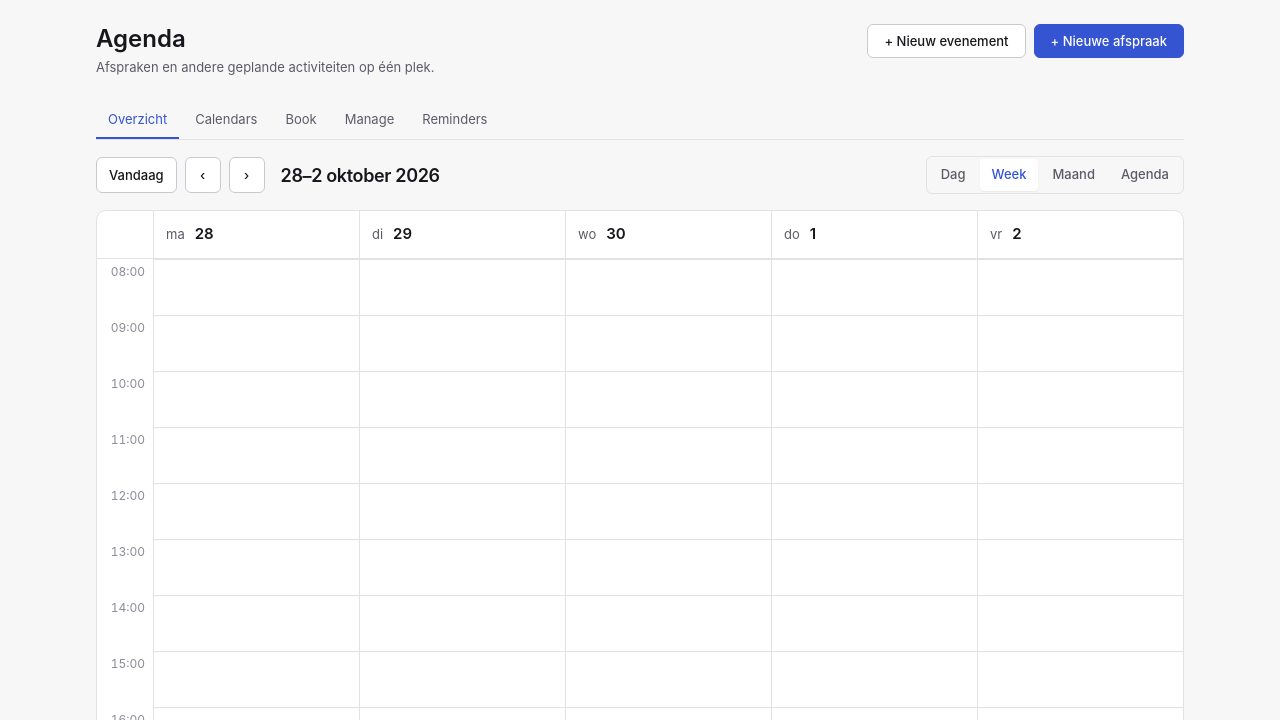
Test: AppointmentsWeekPage › clicking a real calendar event in the Agenda/List view opens it for editing in a side panel
Click the button "Agenda": [1145, 175] box [1109, 159, 1181, 191]
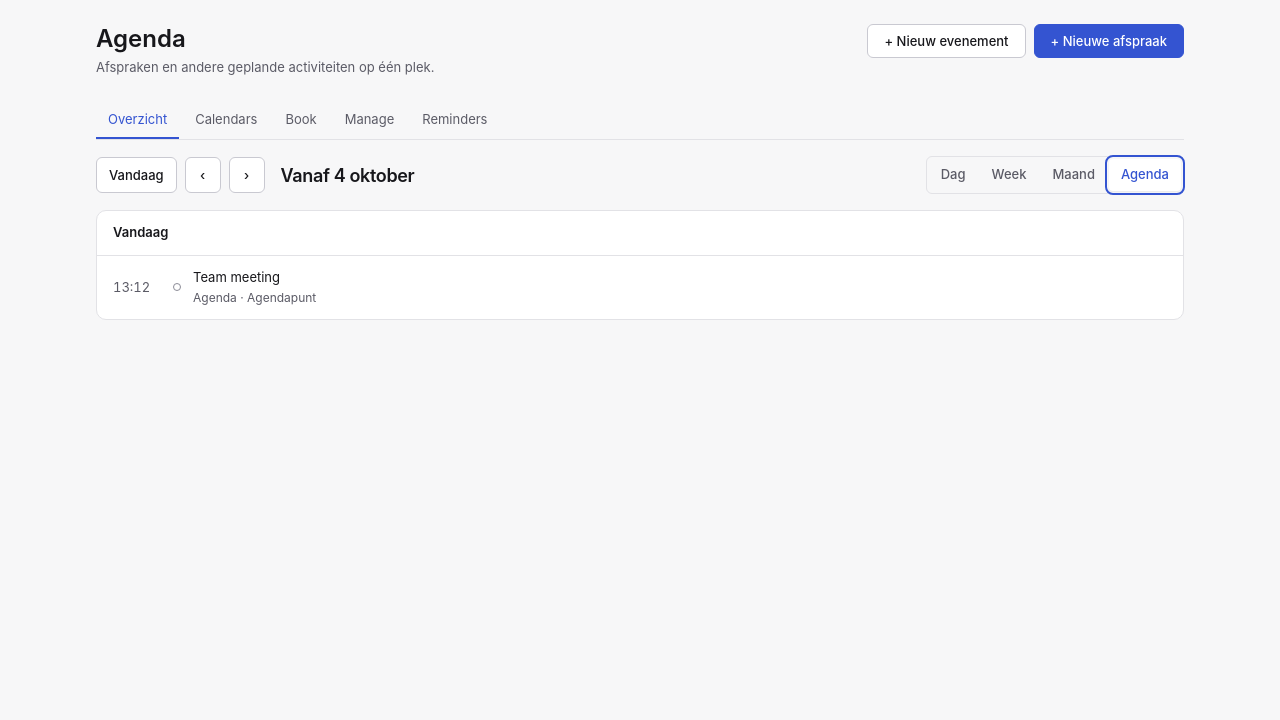
Check: the text "Team meeting" is shown
Click the text "Team meeting": [236, 276] box [193, 268, 280, 284]
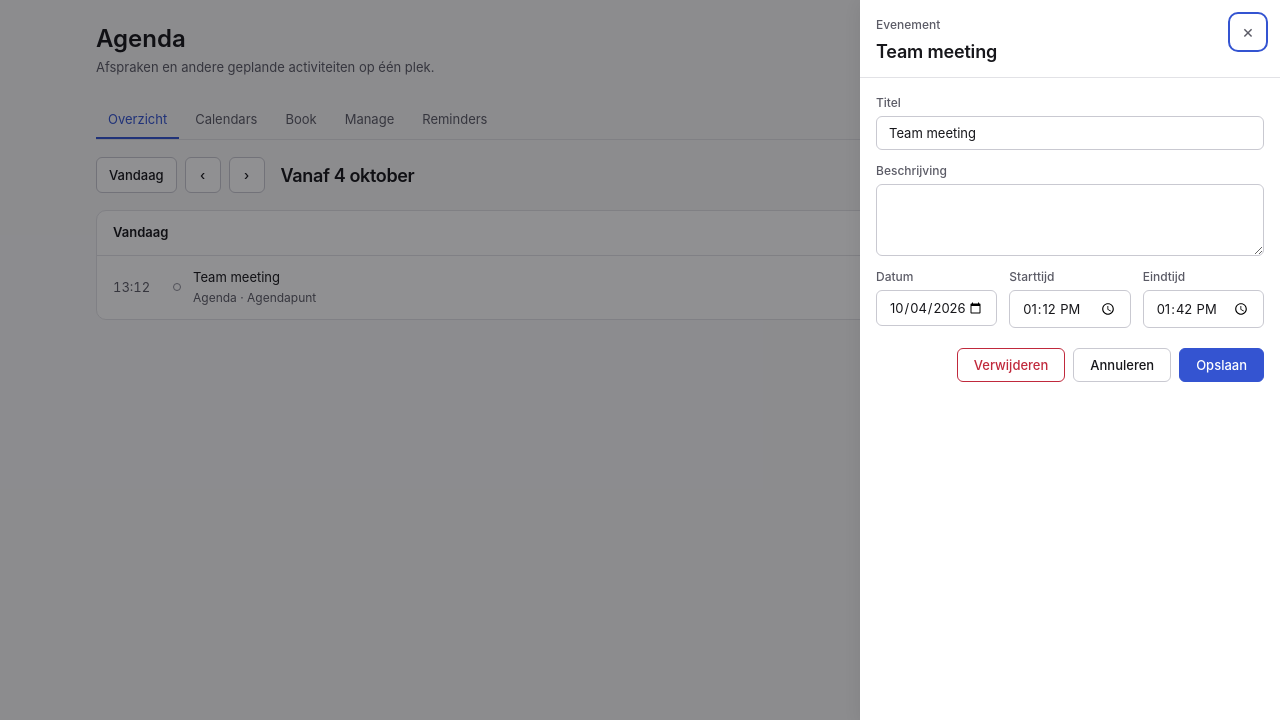
Check: the dialog "Team meeting" is shown, box [860, 0, 1279, 719]
Check: the field labelled "Titel" holds "Team meeting", box [876, 116, 1264, 150]
